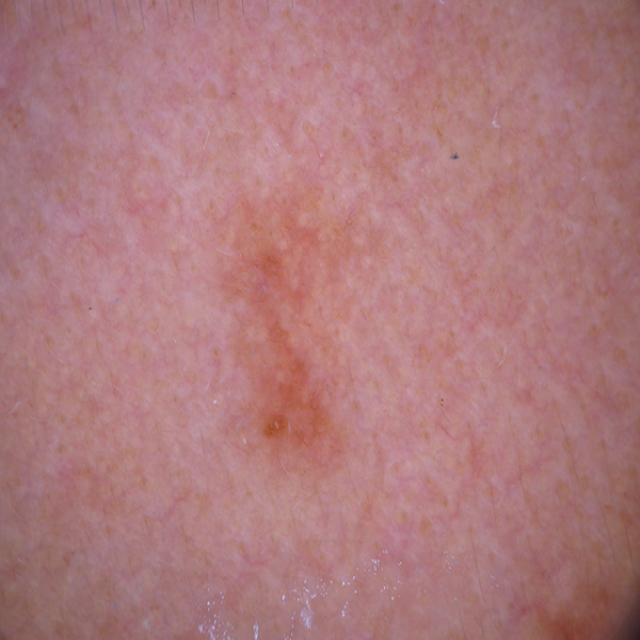Skin-Cancer Pigmented benign keratosis: (114, 41, 599, 636)
